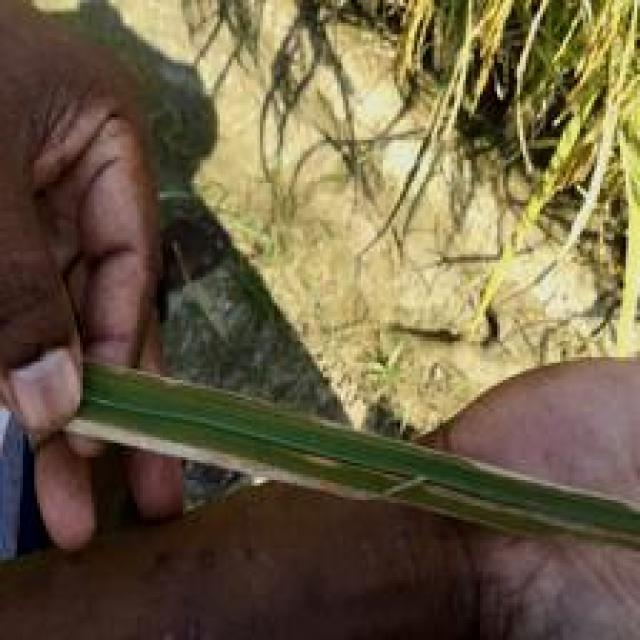Bacterial_Leaf_Blight: (46, 388, 423, 523)
